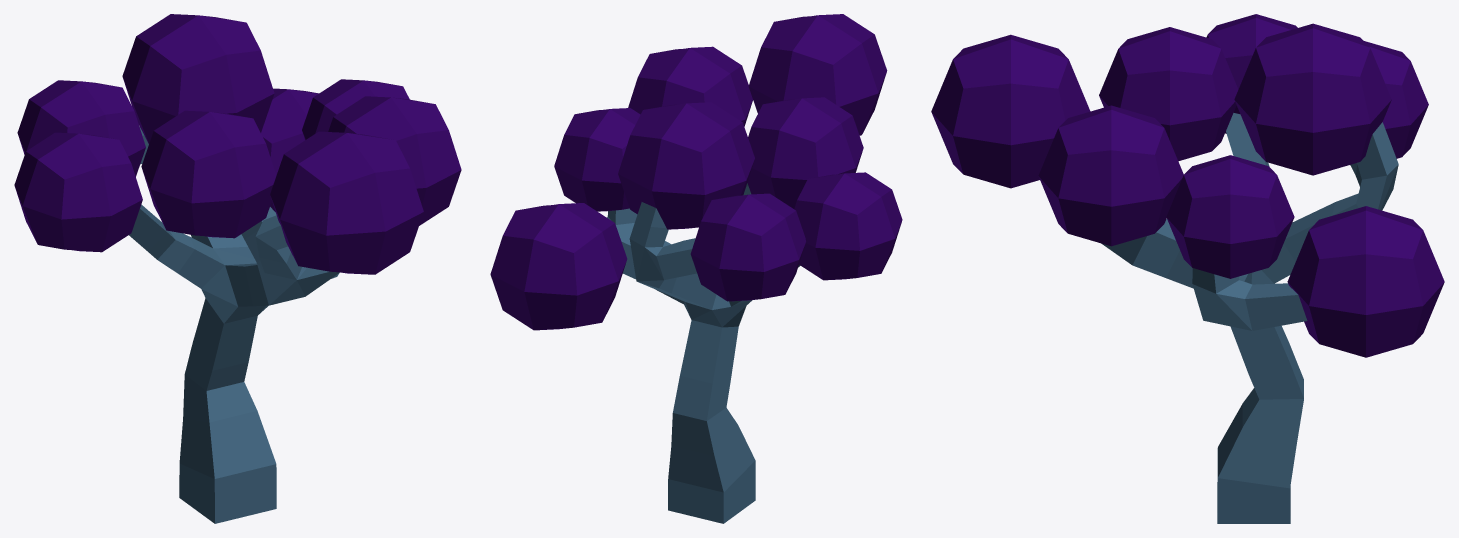
The model's file is TreeLarge3.fbx.
3 renders of one model, left to right at view 1: azimuth 30°, elevation 25°; view 2: azimuth 150°, elevation 25°; view 3: azimuth 270°, elevation 25°, orthographic. The views are drawn at different scales.
Visible parts, largest first — view 1: Plane.003, Cube.020, Cube.017, Cube.021, Cube.018, Cube.015, Cube.019, Cube.022, Cube.016; view 2: Plane.003, Cube.022, Cube.021, Cube.020, Cube.019, Cube.018, Cube.017, Cube.016, Cube.015; view 3: Plane.003, Cube.021, Cube.022, Cube.020, Cube.015, Cube.017, Cube.016, Cube.019, Cube.018.
Part boxes in pixels (x1,y1,x2,y2): Plane.003: [129, 126, 339, 523]; Cube.020: [270, 131, 423, 274]; Cube.017: [141, 110, 276, 238]; Cube.021: [122, 14, 274, 143]; Cube.018: [14, 132, 142, 252]; Cube.015: [328, 96, 461, 225]; Cube.019: [17, 80, 145, 176]; Cube.022: [261, 88, 318, 211]; Cube.016: [302, 79, 409, 140]; Plane.003: [607, 183, 800, 523]; Cube.022: [490, 203, 627, 330]; Cube.021: [618, 102, 754, 229]; Cube.020: [748, 14, 887, 135]; Cube.019: [690, 193, 805, 301]; Cube.018: [794, 172, 902, 280]; Cube.017: [747, 97, 863, 208]; Cube.016: [554, 108, 640, 211]; Cube.015: [628, 46, 752, 126]; Plane.003: [1101, 113, 1398, 523]; Cube.021: [1234, 23, 1391, 175]; Cube.022: [1287, 206, 1444, 357]; Cube.020: [931, 34, 1090, 188]; Cube.015: [1038, 105, 1183, 246]; Cube.017: [1099, 27, 1238, 161]; Cube.016: [1166, 155, 1294, 278]; Cube.019: [1364, 41, 1428, 158]; Cube.018: [1206, 14, 1297, 133].
Bounding box in the file's own units: 544 × 485 × 561.
